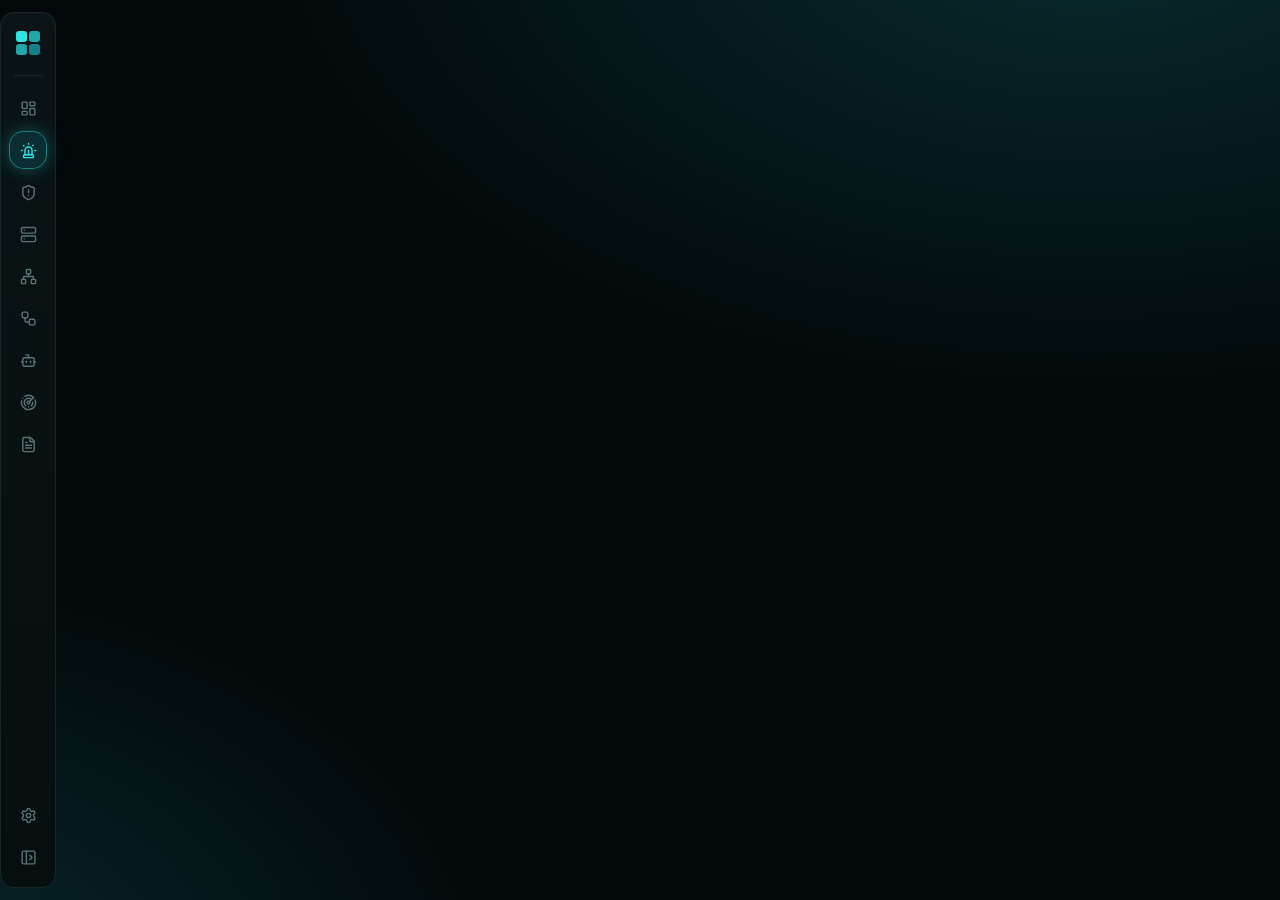
Sidebar › starts collapsed (icons only), expands to show labels and remembers it
Expected: the text "Erkennungsregeln" is not shown
Click the button named "Navigation ausklappen".
click(28, 857)  # box left=10, top=839, right=46, bottom=875
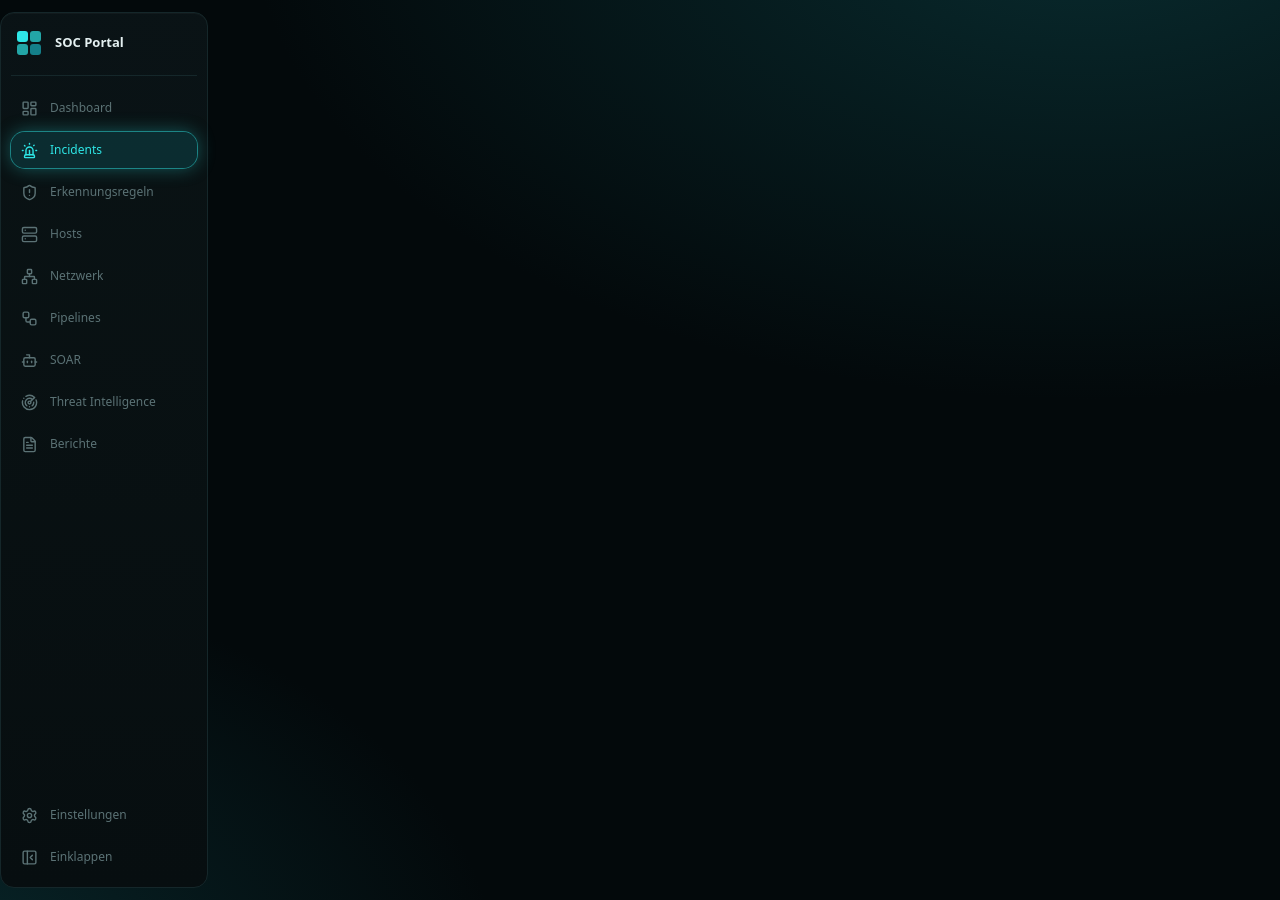
Now the text "Erkennungsregeln" is shown, box left=50, top=184, right=154, bottom=200
Now the button with aria-label "Navigation einklappen" is expanded, box left=11, top=839, right=197, bottom=875
